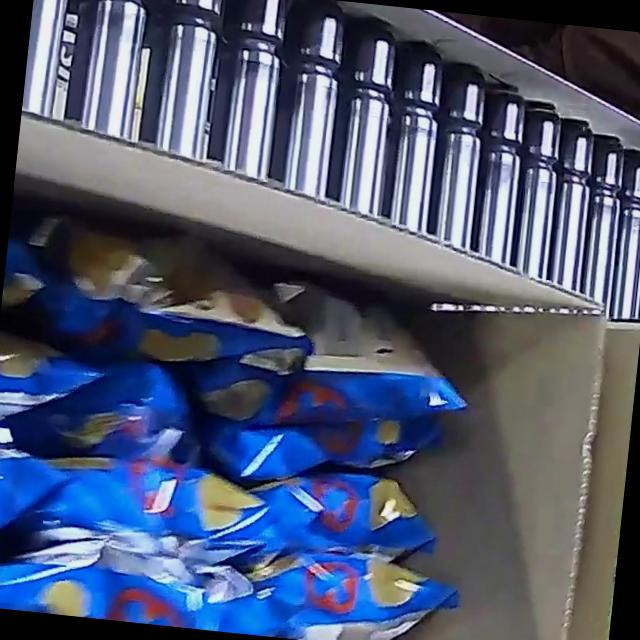paprika: (0, 203, 499, 640)
